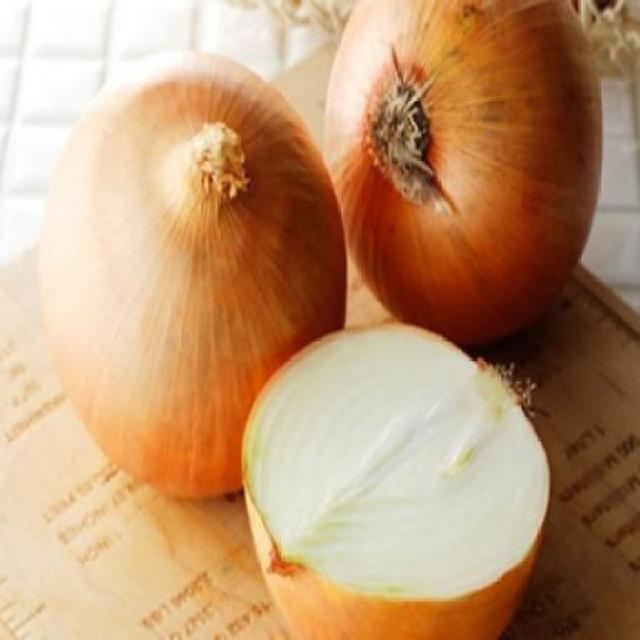Onion: (40, 52, 346, 498), (326, 0, 603, 346)
